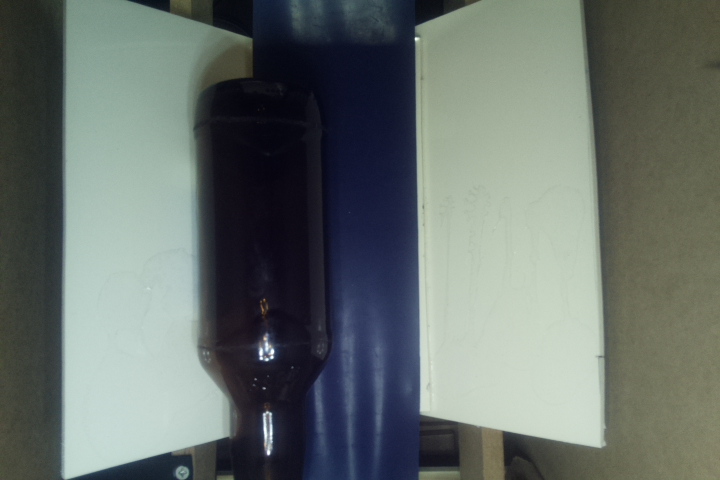makju: (194, 77, 335, 480)
